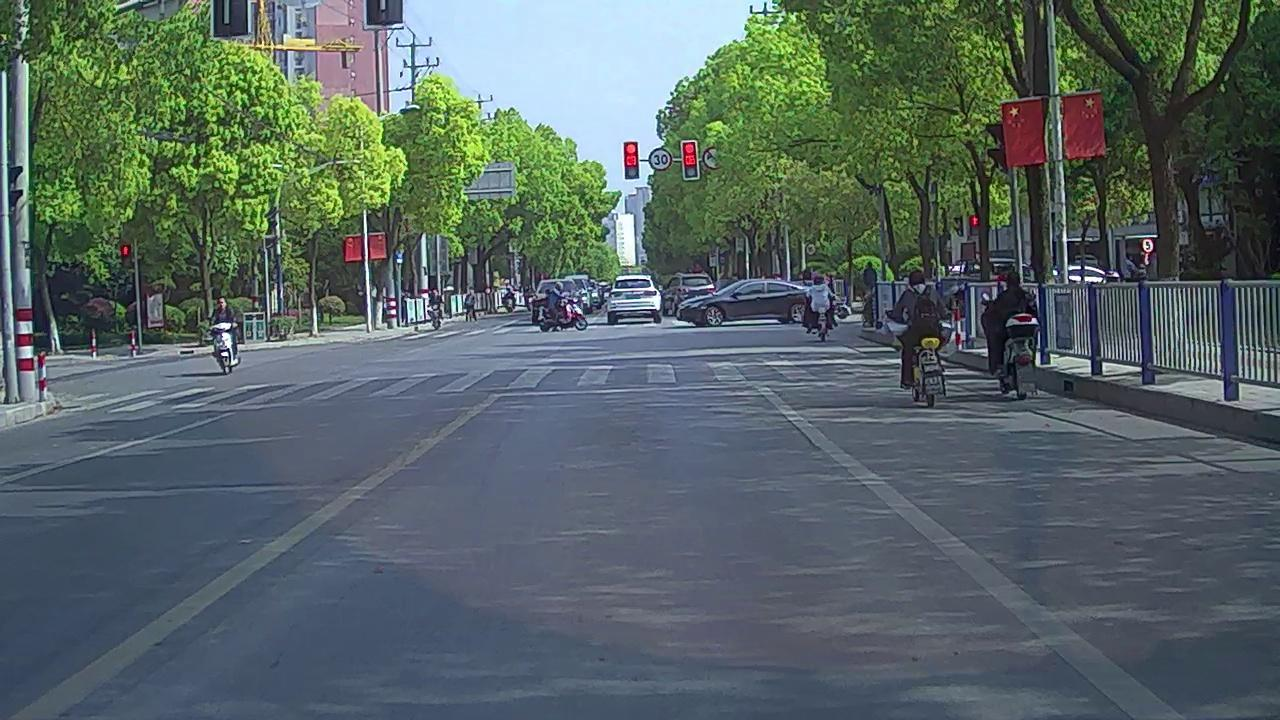traffic_light: (623, 138, 639, 180), (683, 141, 698, 180)
